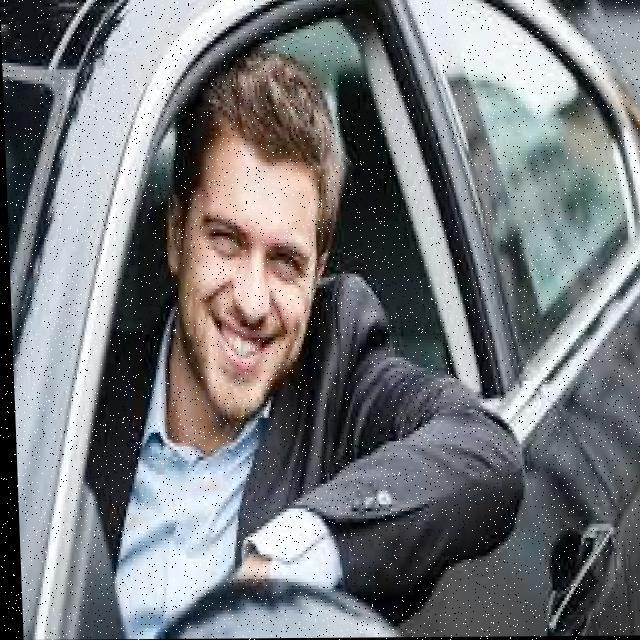noSeatbelt: (97, 278, 350, 603)
